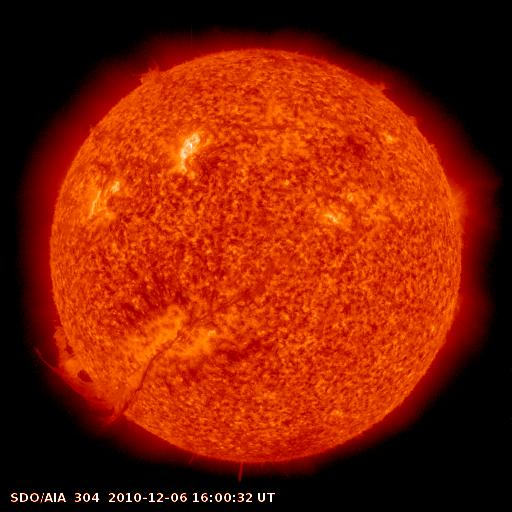prominence: (18, 316, 134, 432), (403, 104, 456, 168), (126, 44, 175, 93), (357, 66, 401, 102), (221, 457, 262, 492)
